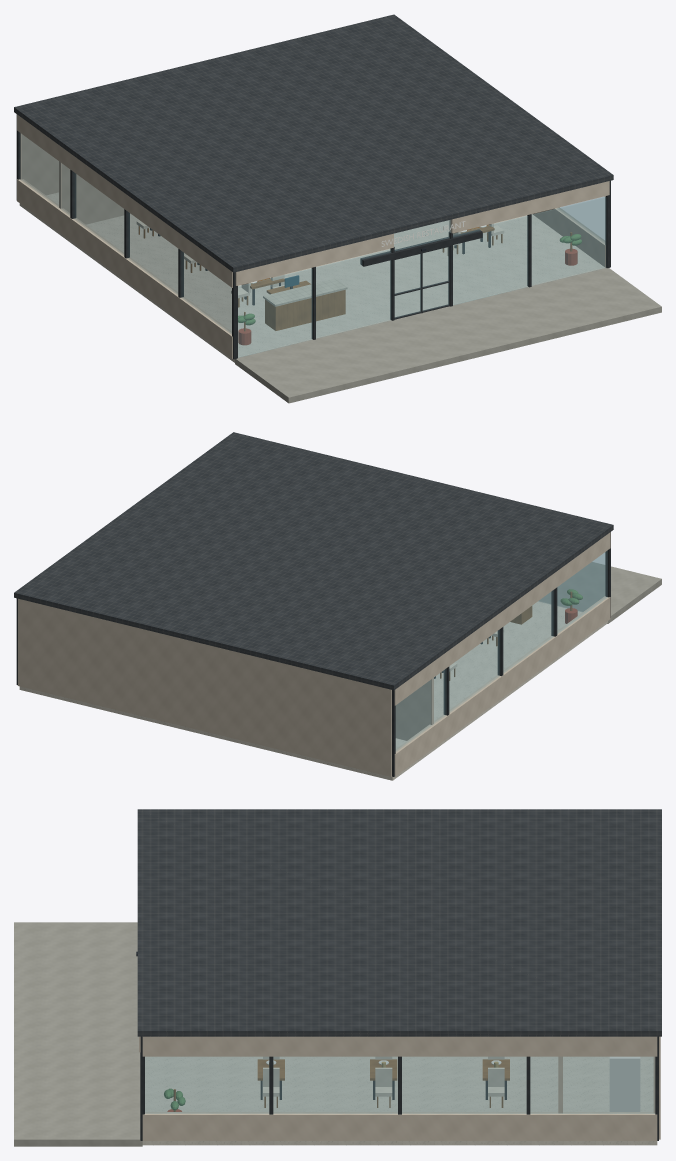
Rendered from 05_Swedish_Restaurant_LOD1.glb.
3 renders of one model, top to bottom at view 1: azimuth 30°, elevation 25°; view 2: azimuth 150°, elevation 25°; view 3: azimuth 270°, elevation 25°, orthographic. The views are drawn at different scales.
Visible parts, largest first — view 1: Roof, Floor, Approach, Front glazing, Front glazing.001, Side glazing, Side base wall, Side upper wall, Front band.001, Front band, Internal partition, Service counter (+8 smaller); view 2: Roof, Rear wall, Side glazing, Floor, Side base wall, Side upper wall, Approach, Internal partition, Front glazing; view 3: Roof, Side glazing.001, Approach, Floor, Side base wall.001, Side upper wall.001, Fridge.
Boxes of the visible parts, x1,y1,x2,y2 form: Roof: (14, 14, 613, 272); Floor: (19, 192, 605, 362); Approach: (235, 268, 661, 403); Front glazing: (238, 249, 391, 357); Front glazing.001: (453, 197, 606, 304); Side glazing: (20, 133, 231, 333); Side base wall: (17, 179, 232, 358); Side upper wall: (17, 114, 232, 287); Front band.001: (449, 181, 609, 233); Front band: (235, 233, 393, 285); Internal partition: (59, 161, 130, 224); Service counter: (265, 290, 345, 330); Roof: (14, 432, 613, 690); Rear wall: (18, 598, 391, 776); Side glazing: (396, 551, 607, 751); Floor: (19, 601, 607, 780); Side base wall: (394, 596, 610, 776); Side upper wall: (394, 532, 610, 705); Approach: (539, 562, 661, 623); Internal partition: (395, 677, 433, 740); Front glazing: (539, 553, 604, 611); Roof: (137, 809, 661, 1036); Side glazing.001: (145, 1057, 654, 1113); Approach: (14, 922, 142, 1146); Floor: (142, 1056, 657, 1145); Side base wall.001: (142, 1112, 657, 1140); Side upper wall.001: (142, 1036, 657, 1056); Fridge: (609, 1056, 640, 1111).
Bounding box in the file's own units: 16.3 × 4.04 × 20.15.
17 materials, 11 textured.
